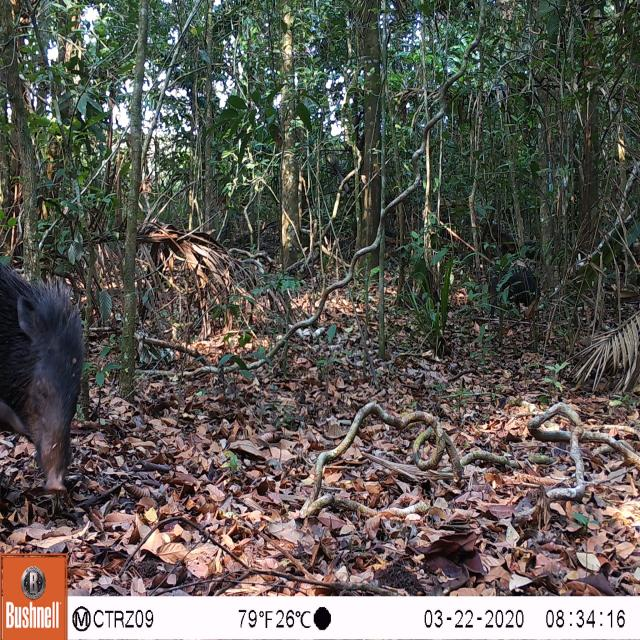Collared Peccary: (0, 239, 116, 502), (480, 260, 550, 328)
